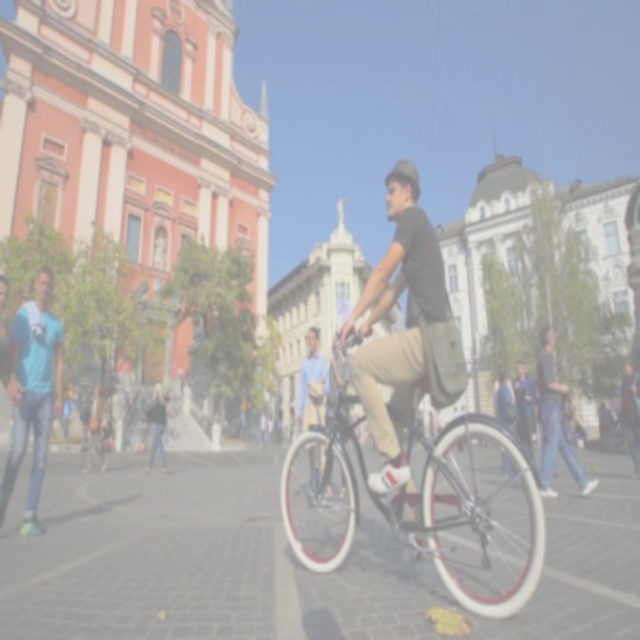pessoa: (338, 157, 452, 567), (0, 262, 67, 538), (536, 324, 600, 499), (294, 325, 330, 508), (318, 328, 352, 507), (0, 272, 24, 407), (536, 358, 562, 482), (140, 381, 172, 478), (495, 368, 520, 479), (512, 358, 537, 466), (81, 381, 108, 476), (620, 356, 640, 480), (495, 364, 516, 474), (80, 398, 92, 454), (140, 403, 152, 453), (596, 404, 614, 437), (600, 398, 618, 431), (433, 406, 445, 454), (405, 413, 424, 443), (354, 414, 374, 442), (569, 416, 587, 447), (153, 232, 168, 268), (458, 402, 467, 450), (100, 418, 113, 450), (334, 193, 346, 227), (258, 408, 267, 450), (335, 304, 348, 327), (266, 412, 274, 448), (274, 416, 283, 443), (451, 404, 462, 422), (177, 366, 184, 394), (428, 411, 436, 434)
